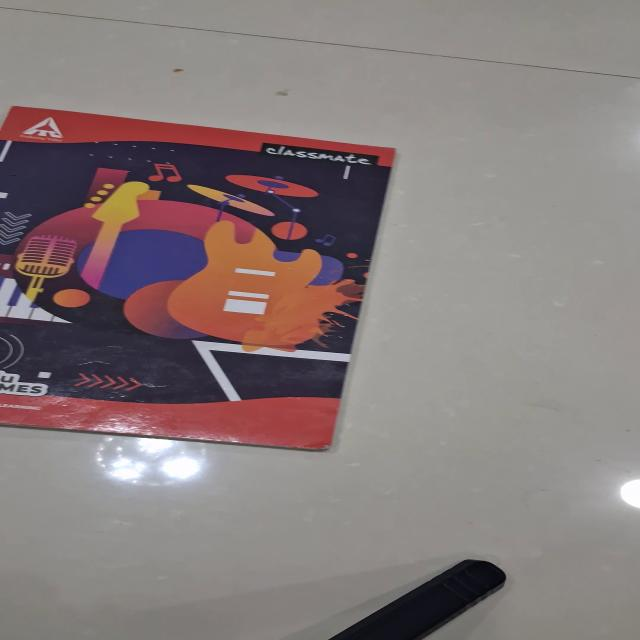paper: (1, 106, 397, 451)
